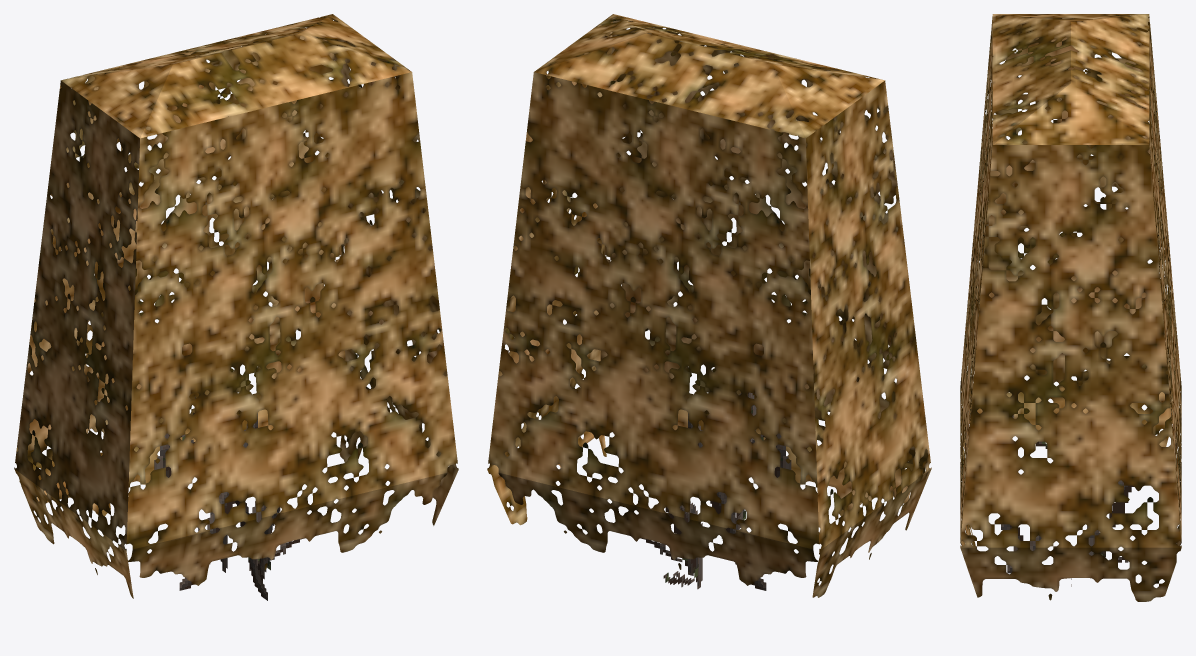
The model's file is bush_tall_half_single_roots_autumn.fbx.
The picture shows the model from 3 angles, left to right: view 1: azimuth 30°, elevation 25°; view 2: azimuth 150°, elevation 25°; view 3: azimuth 270°, elevation 25°; orthographic projection.
Parts seen in each view (by area): view 1: bush_tall_half_single_roots_autumn; view 2: bush_tall_half_single_roots_autumn; view 3: bush_tall_half_single_roots_autumn.
Boxes of the visible parts, x1,y1,x2,y2 form: bush_tall_half_single_roots_autumn: (14,14,458,600); bush_tall_half_single_roots_autumn: (487,14,931,597); bush_tall_half_single_roots_autumn: (960,14,1181,601).
Size of the model in its own units: 123 by 188 by 71.91.
2 materials, 2 textured.
